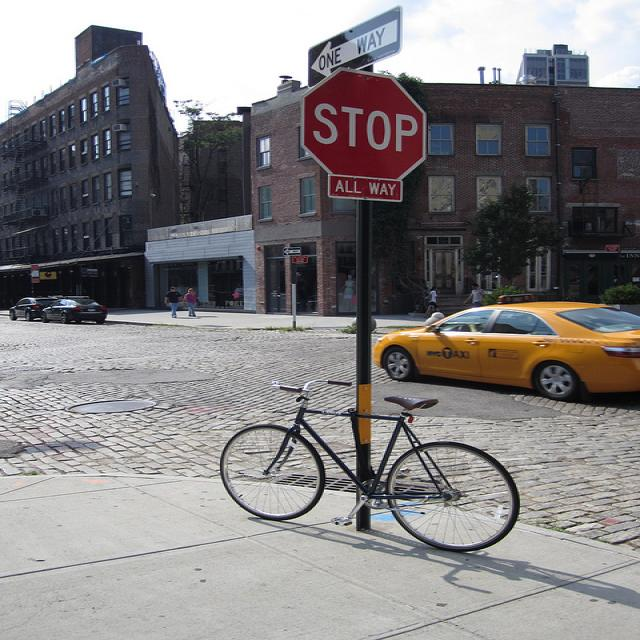Vehicle: (376, 298, 640, 398), (39, 296, 106, 324), (8, 297, 56, 321)
